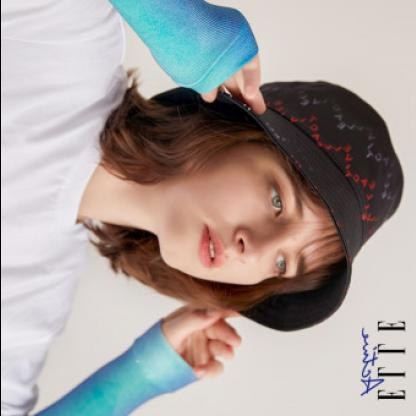hat: (185, 74, 407, 340)
